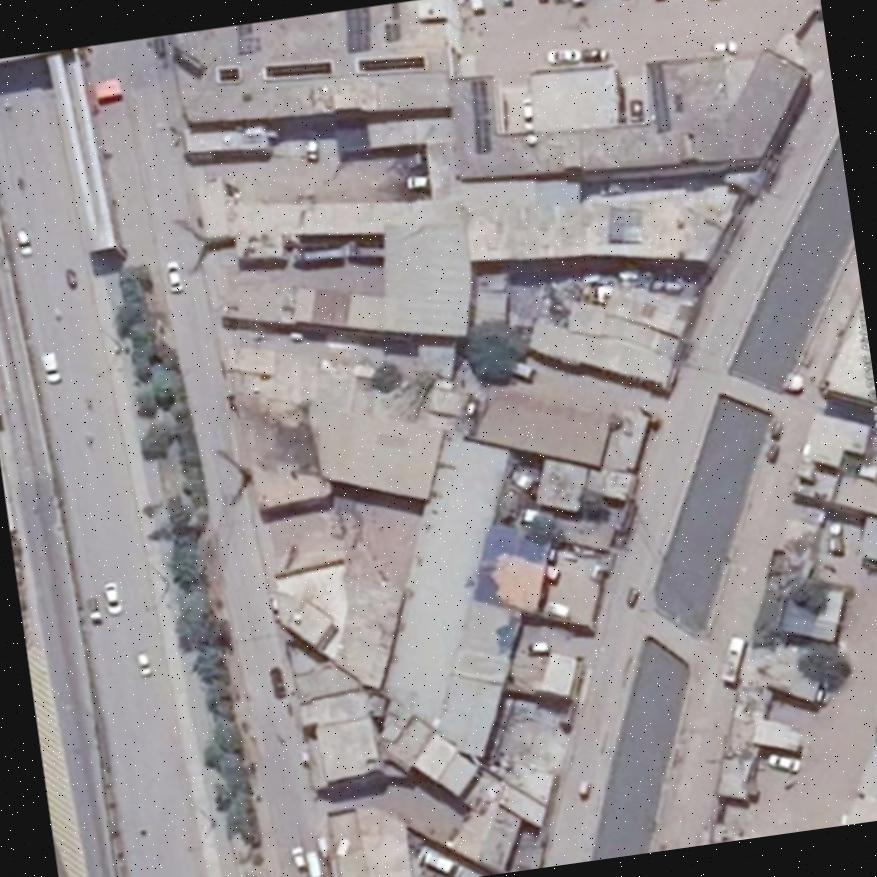Solarpanel: (470, 77, 488, 154), (346, 7, 370, 51)
